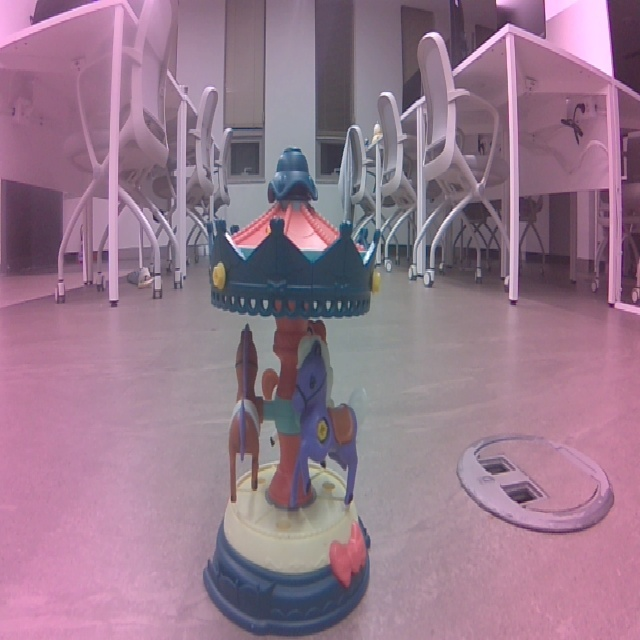목적지: (192, 138, 381, 635)
